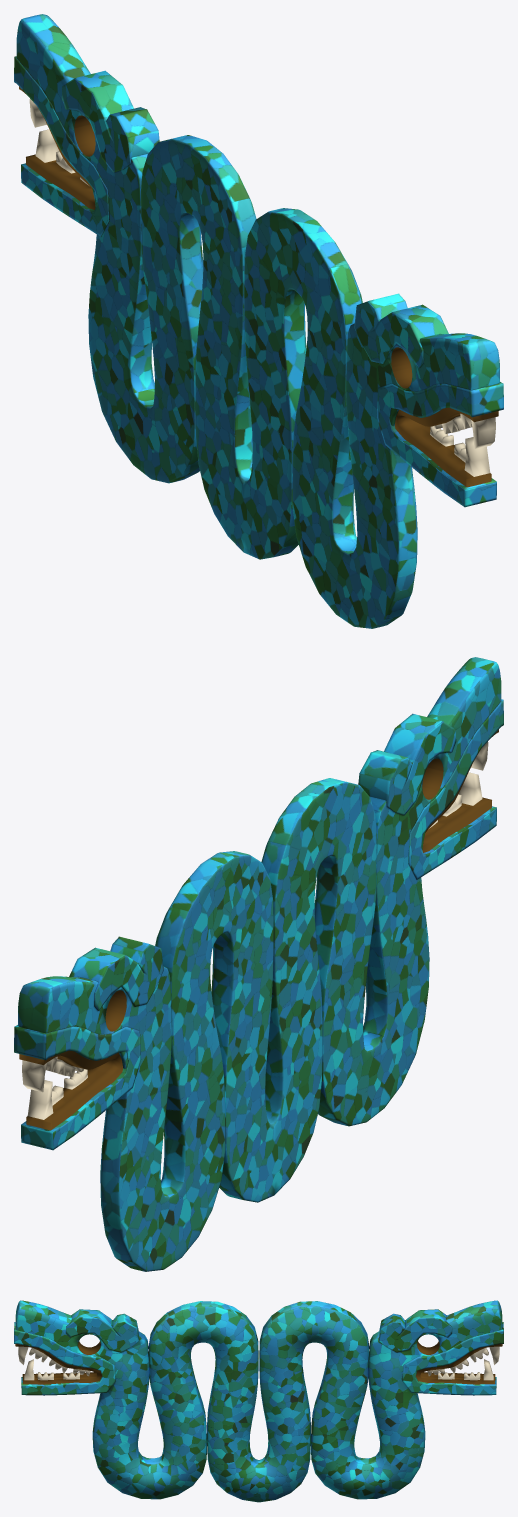
File: 2snake.glb
3 renders of one model, top to bottom at view 1: azimuth 30°, elevation 25°; view 2: azimuth 150°, elevation 25°; view 3: azimuth 270°, elevation 25°, orthographic. The views are drawn at different scales.
Visible parts, largest first — view 1: snake; view 2: snake; view 3: snake.
Boxes of the visible parts, <box> form: snake: <box>14,14,503,628</box>; snake: <box>14,657,503,1271</box>; snake: <box>14,1300,503,1502</box>.
Bounding box in the file's own units: 0.4989 × 5 × 11.19.
3 materials, 1 textured.
